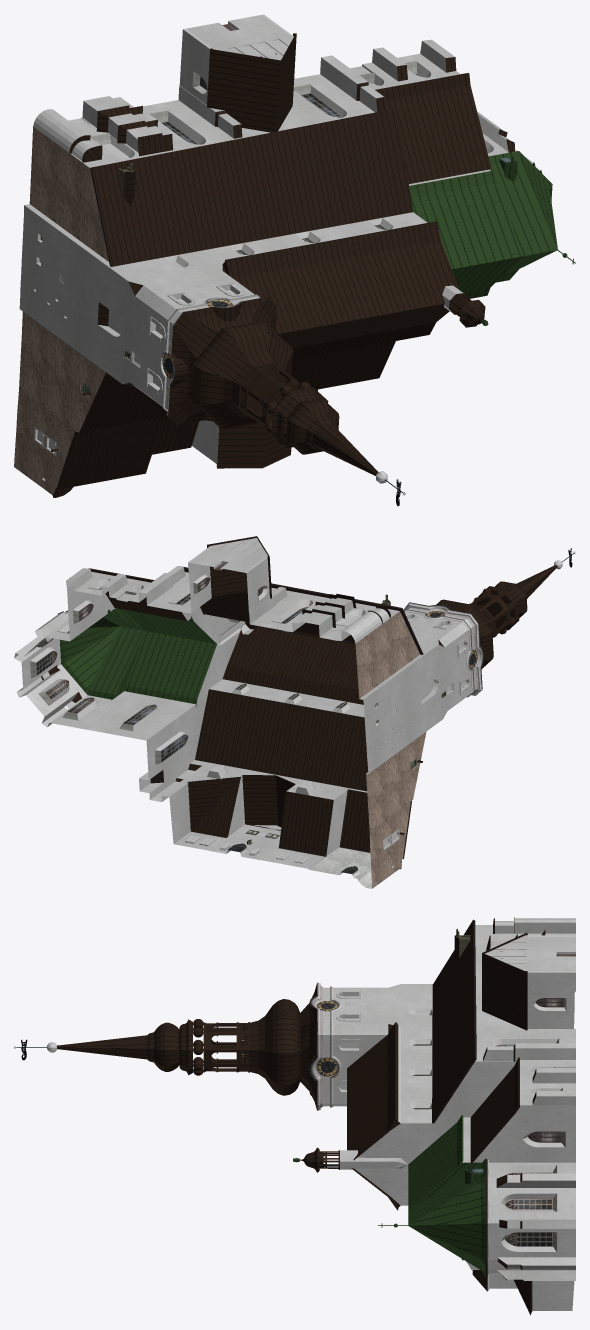
File: Toom-Kooli_6.obj
3 views of the same model, one above another, from view 1: azimuth 30°, elevation 25°; view 2: azimuth 150°, elevation 25°; view 3: azimuth 270°, elevation 25° (orthographic). The views are drawn at different scales.
Visible parts, largest first — view 1: Toom_kirik; view 2: Toom_kirik; view 3: Toom_kirik.
Boxes of the visible parts, bbox=[...] form: Toom_kirik: bbox=[14, 14, 575, 506]; Toom_kirik: bbox=[14, 536, 575, 888]; Toom_kirik: bbox=[14, 917, 575, 1315].
Size of the model in its own units: 59.47 by 46.65 by 70.07.
